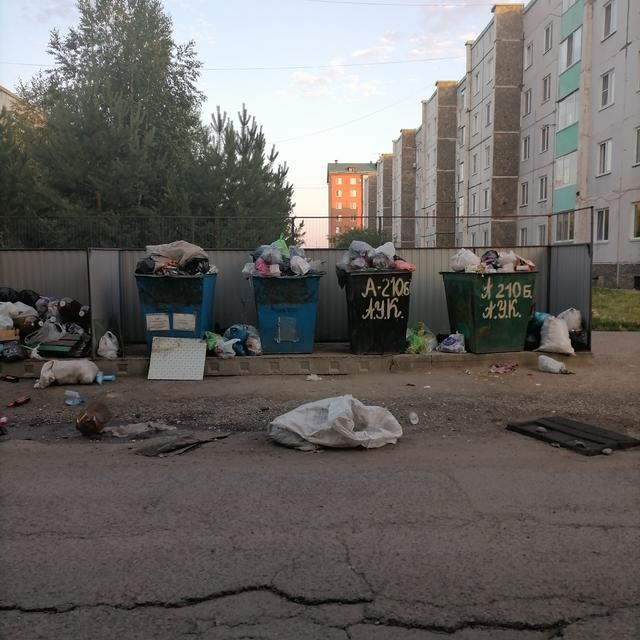Trash_Can_Full: (440, 247, 539, 354), (242, 232, 327, 355), (134, 238, 219, 353), (335, 240, 416, 355)
